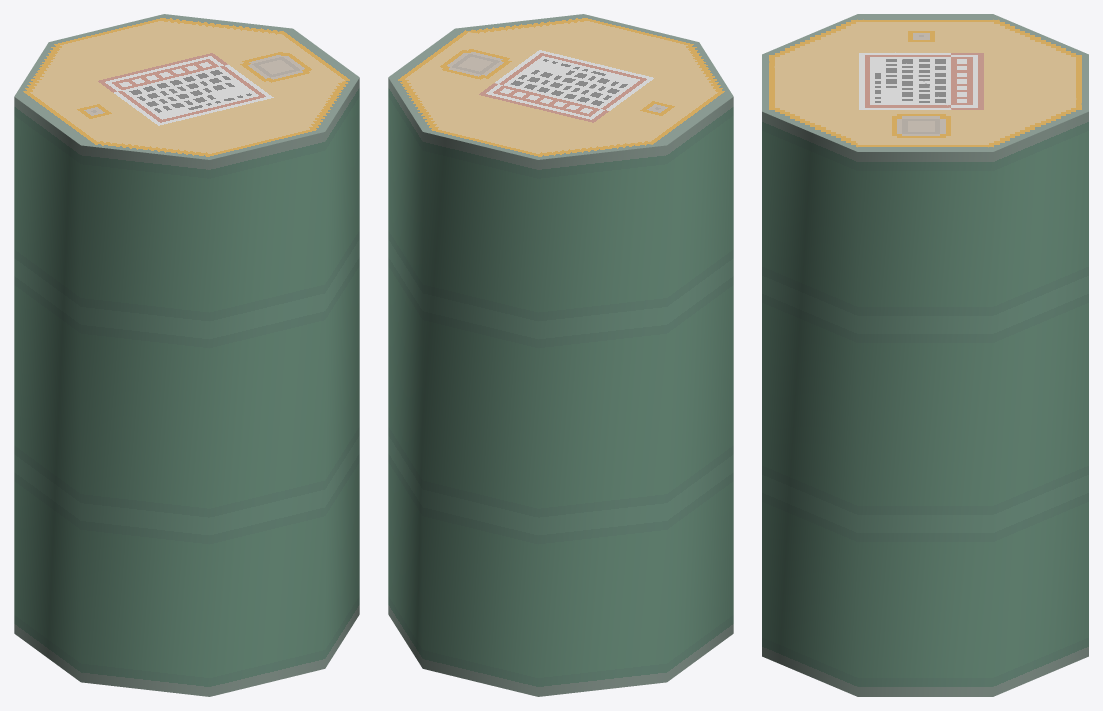
File: 0087_Green_Oil_Drum.glb
The picture shows the model from 3 angles, left to right: view 1: azimuth 30°, elevation 25°; view 2: azimuth 150°, elevation 25°; view 3: azimuth 270°, elevation 25°; orthographic projection.
Visible parts, largest first — view 1: part_0; view 2: part_0; view 3: part_0.
Boxes of the visible parts, <box> form: part_0: <box>14,14,359,696</box>; part_0: <box>388,14,733,696</box>; part_0: <box>762,14,1088,696</box>.
Bounding box in the file's own units: 0.4619 × 0.85 × 0.4619.
1 material, 1 textured.
